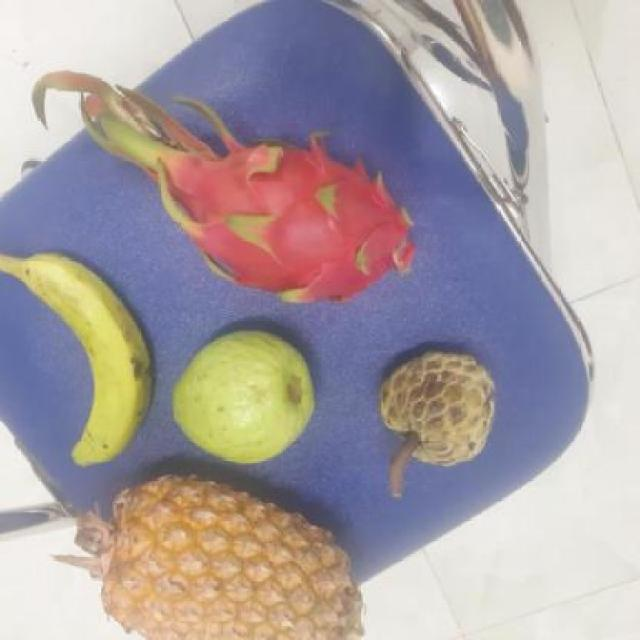banana: (6, 247, 157, 465)
dragon fruit: (166, 127, 437, 308)
guava: (172, 332, 320, 460)
pineapple: (103, 472, 359, 639)
sugar apple: (381, 347, 504, 475)
